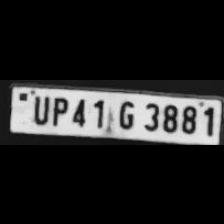1: (88, 94, 110, 128), (199, 102, 217, 134)
3: (140, 97, 160, 130)
4: (68, 95, 88, 125)
8: (178, 100, 198, 134), (160, 99, 178, 133)
G: (112, 96, 136, 128)
P: (48, 94, 68, 124)
U: (28, 92, 50, 124)
